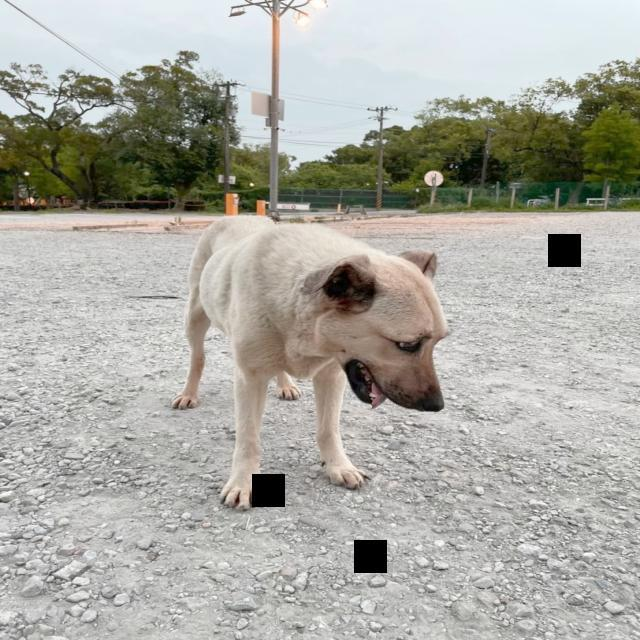adult_dog: (170, 212, 451, 513)
